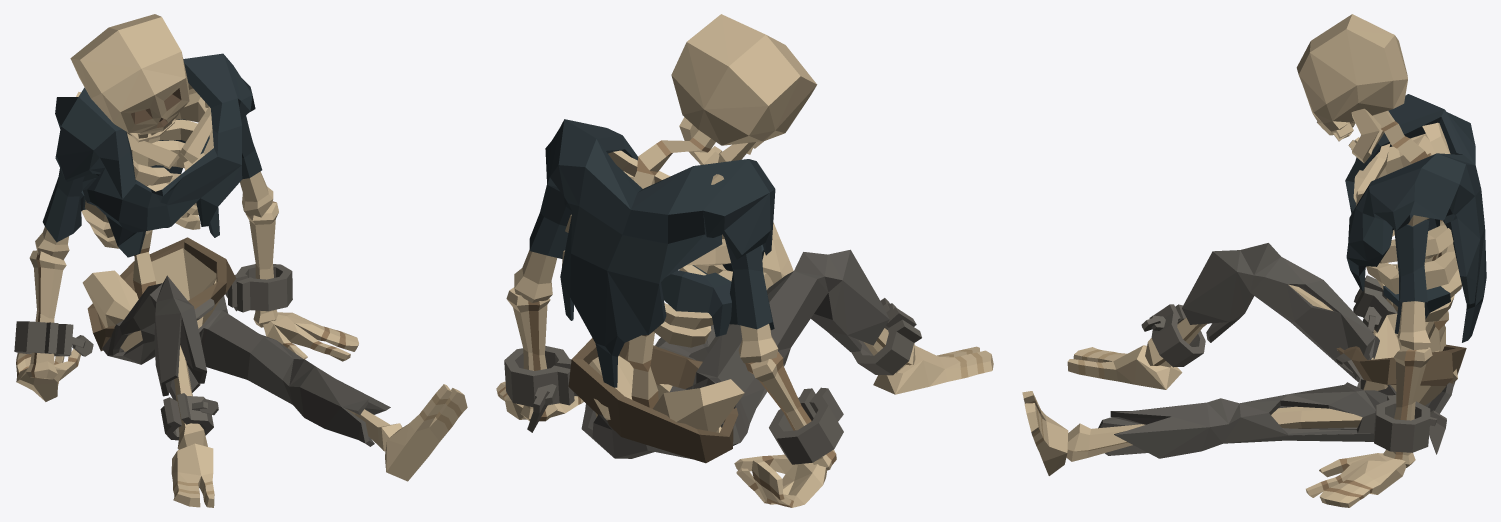
Rendered from SM_Prop_Skeleton_Slave_Wall_Sitting_01.fbx.
3 renders of one model, left to right at view 1: azimuth 30°, elevation 25°; view 2: azimuth 150°, elevation 25°; view 3: azimuth 270°, elevation 25°, orthographic. The views are drawn at different scales.
Parts seen in each view (by area): view 1: SM_Prop_Skeleton_Slave_Wall_Sitting_01; view 2: SM_Prop_Skeleton_Slave_Wall_Sitting_01; view 3: SM_Prop_Skeleton_Slave_Wall_Sitting_01.
Boxes of the visible parts, <box> form: SM_Prop_Skeleton_Slave_Wall_Sitting_01: <box>14,14,467,507</box>; SM_Prop_Skeleton_Slave_Wall_Sitting_01: <box>496,14,993,507</box>; SM_Prop_Skeleton_Slave_Wall_Sitting_01: <box>1022,14,1486,507</box>.
Bounding box in the file's own units: 86.1 × 101 × 107.
